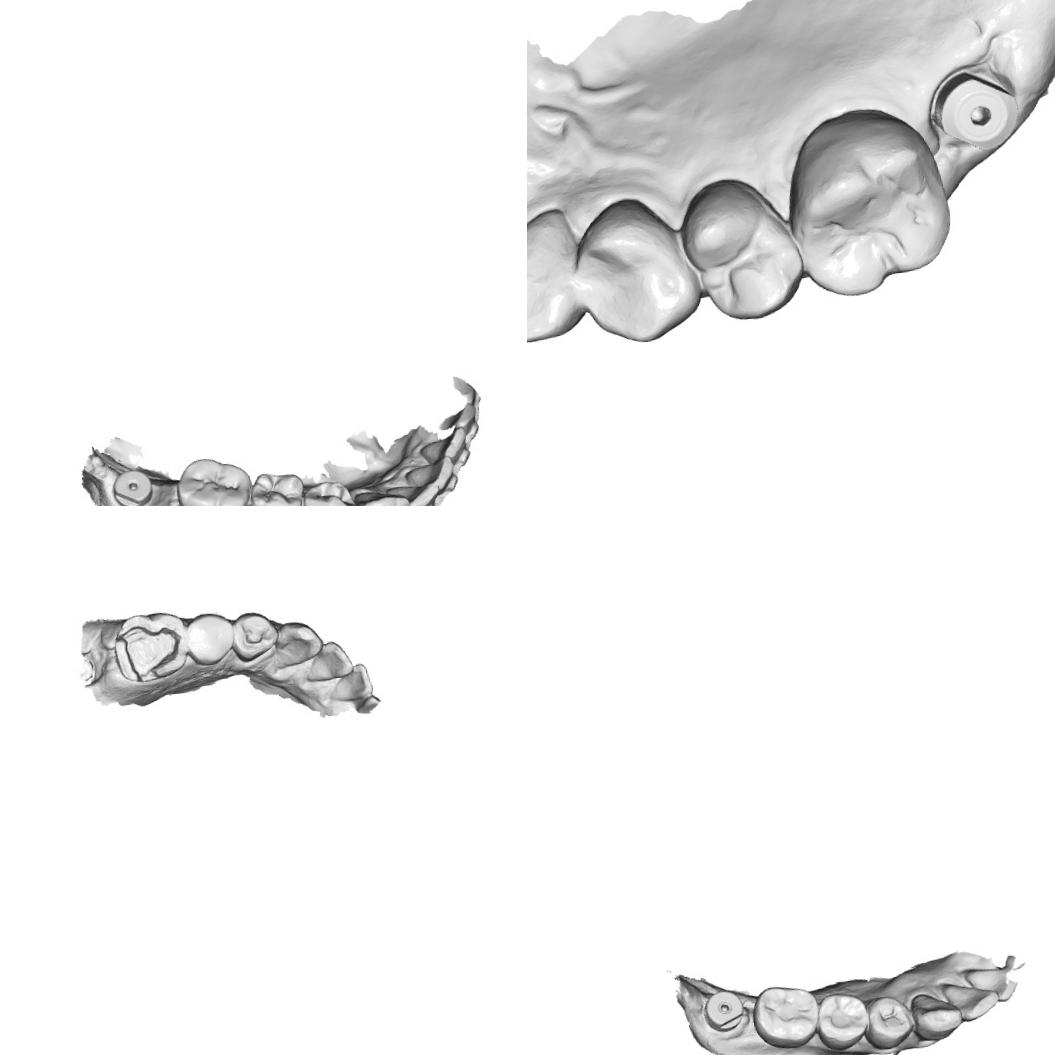canine: (527, 203, 586, 351), (267, 617, 326, 672), (907, 987, 962, 1044), (351, 484, 414, 506)
implant: (921, 60, 1026, 161), (700, 986, 746, 1034), (109, 465, 156, 506)
incisor: (938, 975, 1001, 1025), (960, 963, 1020, 1007), (300, 638, 354, 684), (402, 455, 458, 496), (416, 425, 472, 466), (323, 662, 374, 705), (384, 480, 443, 506), (434, 403, 479, 435)
inlay: (112, 619, 188, 686)
molar: (776, 98, 960, 306), (747, 980, 822, 1054), (170, 451, 258, 506)
premolar: (570, 188, 706, 351), (673, 169, 810, 330), (814, 988, 870, 1054), (859, 992, 916, 1052), (182, 608, 238, 668), (228, 606, 280, 664), (244, 466, 310, 506), (298, 476, 360, 506)
